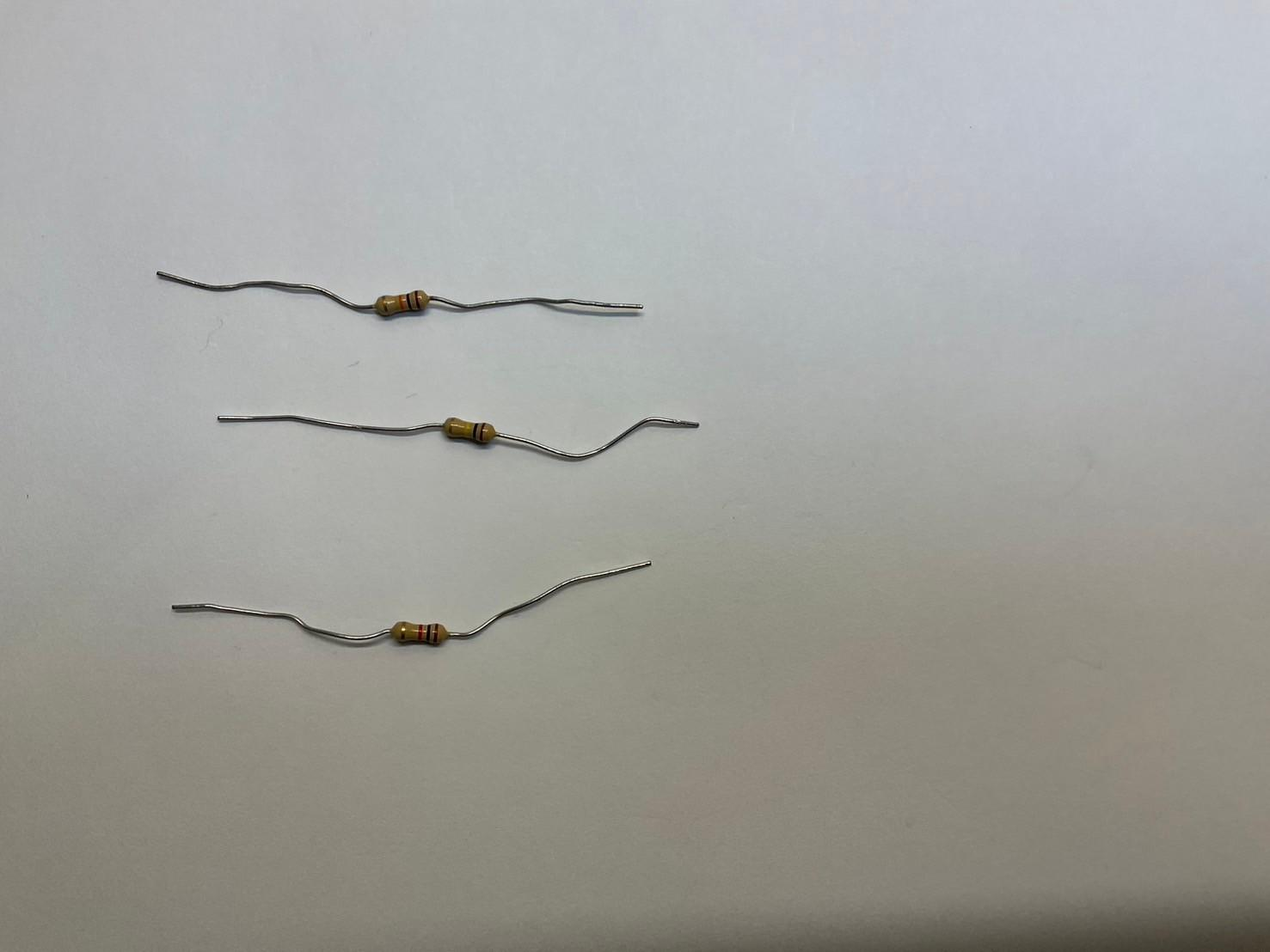resistor: (385, 618, 454, 651), (371, 290, 431, 325), (439, 415, 499, 450)
